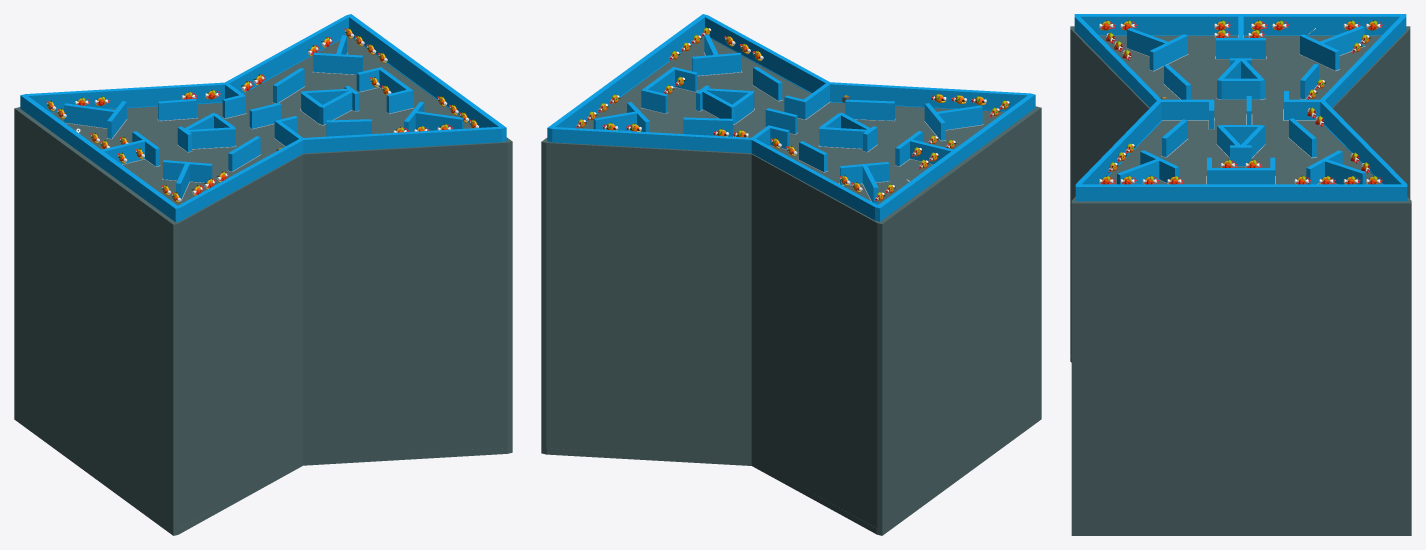
File: Level_5.fbx
3 renders of one model, left to right at view 1: azimuth 30°, elevation 25°; view 2: azimuth 150°, elevation 25°; view 3: azimuth 270°, elevation 25°, orthographic. The views are drawn at different scales.
Parts seen in each view (by area): view 1: Big_Base, CompoundWalls, Base, Walls_1, Walls_4, Walls_19, Walls_7, Walls_12, Walls_14, Walls_21, Walls_2, Walls_13 (+3 smaller); view 2: Big_Base, CompoundWalls, Base, Walls_3, Walls_13, Walls_18, Walls_6, Walls_15, Walls_5, Walls_22, Walls_14, CompoundWalls_2 (+3 smaller); view 3: Big_Base, CompoundWalls, Base, Walls_10, CompoundWalls_2, Walls_11, Walls_5, Walls_7, Walls_17, Walls_24, Walls_4, Walls_6 (+10 smaller).
Boxes of the visible parts, <box> form: Big_Base: <box>14,107,512,535</box>; CompoundWalls: <box>20,14,506,222</box>; Base: <box>51,36,471,205</box>; Walls_1: <box>312,52,362,74</box>; Walls_4: <box>64,103,115,128</box>; Walls_19: <box>186,127,236,149</box>; Walls_7: <box>162,160,212,182</box>; Walls_12: <box>157,98,197,121</box>; Walls_14: <box>326,119,371,136</box>; Walls_21: <box>319,90,353,125</box>; Walls_2: <box>415,111,463,130</box>; Walls_13: <box>227,136,261,171</box>; Big_Base: <box>541,106,1041,535</box>; CompoundWalls: <box>547,14,1035,221</box>; Base: <box>579,36,1004,204</box>; Walls_3: <box>692,52,742,76</box>; Walls_13: <box>845,99,895,121</box>; Walls_18: <box>818,127,868,149</box>; Walls_6: <box>935,105,983,130</box>; Walls_15: <box>683,117,733,136</box>; Walls_5: <box>839,162,889,185</box>; Walls_22: <box>701,90,735,124</box>; Walls_14: <box>752,67,782,101</box>; CompoundWalls_2: <box>801,83,830,120</box>; Big_Base: <box>1070,26,1411,535</box>; CompoundWalls: <box>1074,14,1407,201</box>; Base: <box>1099,35,1381,184</box>; Walls_10: <box>1215,38,1266,59</box>; CompoundWalls_2: <box>1161,99,1214,120</box>; Walls_11: <box>1212,168,1275,184</box>; Walls_5: <box>1299,34,1339,71</box>; Walls_7: <box>1149,34,1188,71</box>; Walls_17: <box>1221,78,1260,99</box>; Walls_24: <box>1283,99,1324,120</box>; Walls_4: <box>1320,26,1365,56</box>; Walls_6: <box>1126,28,1167,56</box>.
Size of the model in its own units: 270 by 248 by 220.
